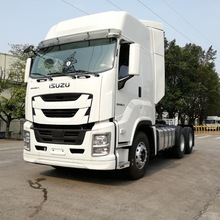truck: (21, 10, 198, 178)
